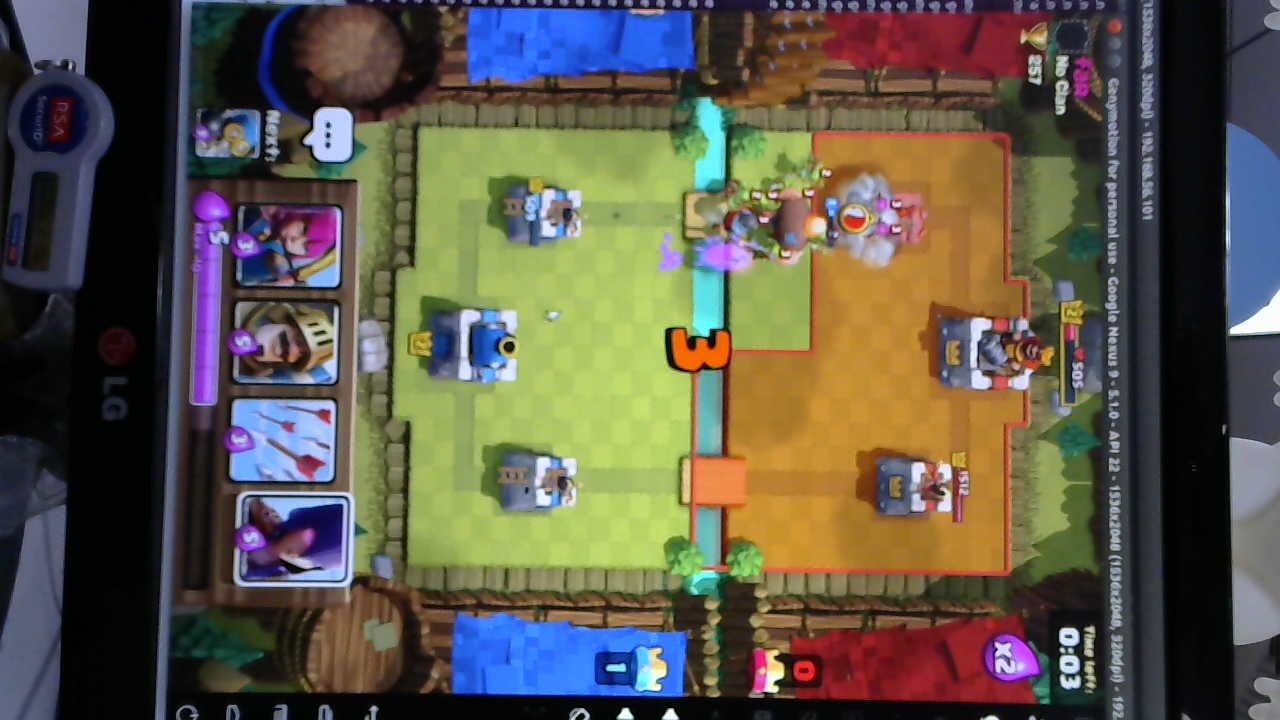archers: (866, 197, 902, 239)
arena: (496, 448, 585, 517), (504, 183, 589, 244)
earena: (872, 451, 951, 521)
eking: (933, 309, 1035, 393)
giant: (772, 186, 822, 268)
king: (430, 308, 517, 382)
knight: (717, 203, 771, 255)
speargoblin: (779, 157, 822, 186), (714, 178, 753, 209)
